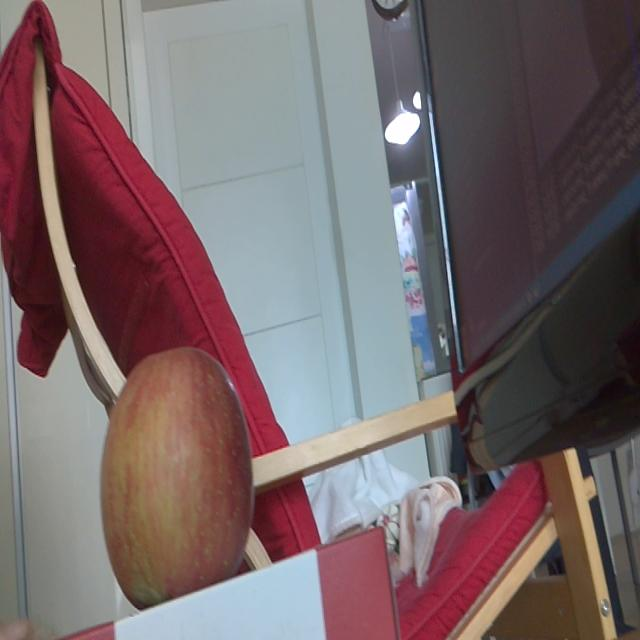apple: (99, 346, 255, 608)
